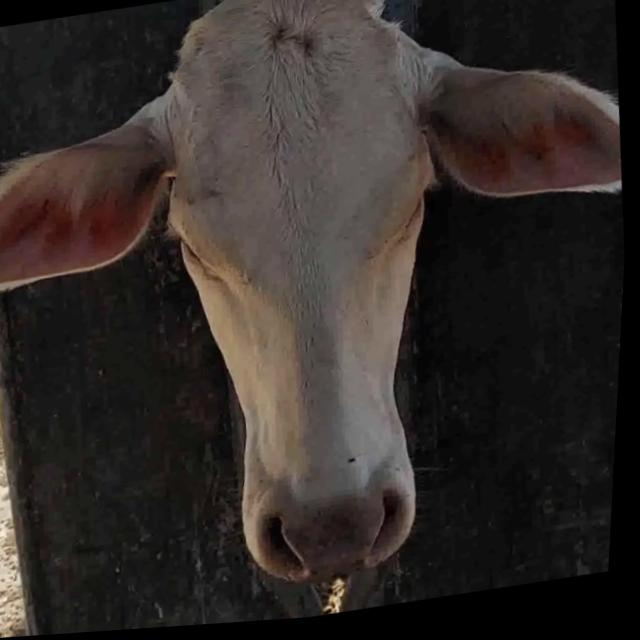cowFace: (142, 0, 479, 596)
